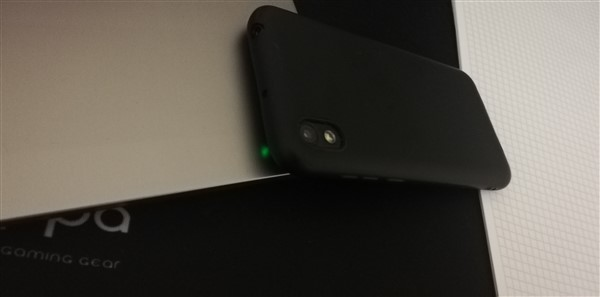telefon: (236, 2, 518, 195)
